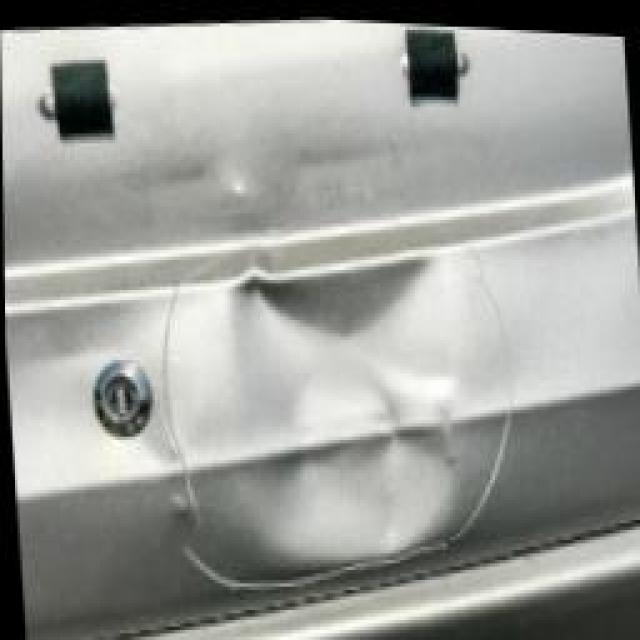Door: (142, 217, 570, 640)
